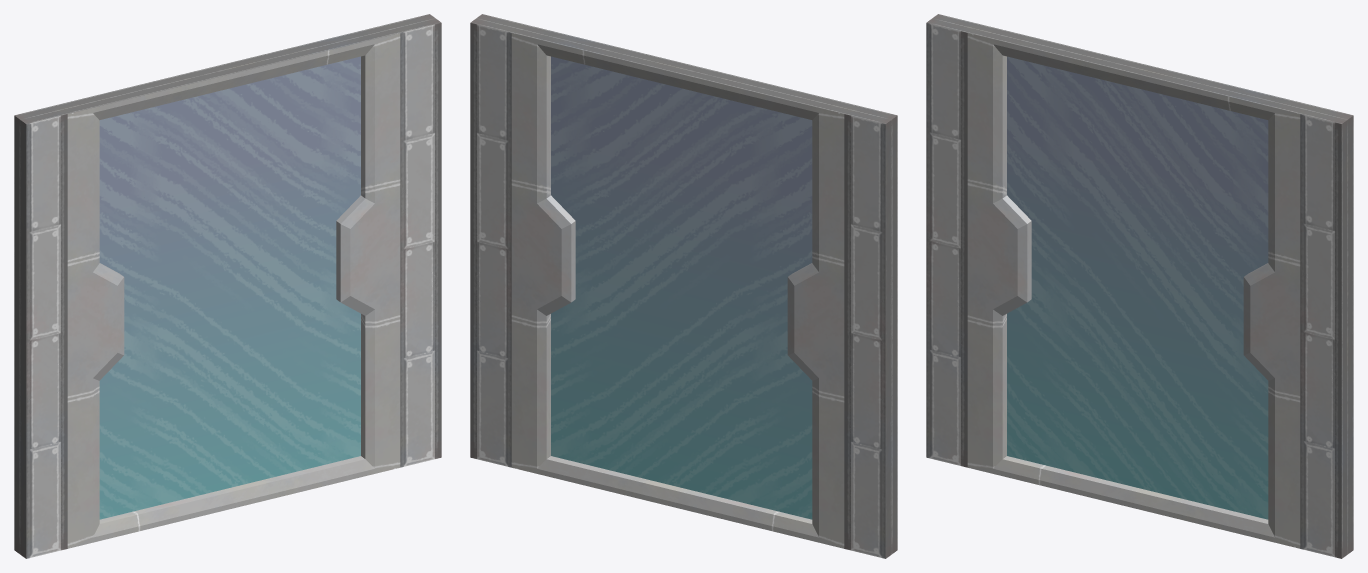
Rendered from SM_Window_Standard_A.fbx.
3 views of the same model, side by side, from view 1: azimuth 30°, elevation 25°; view 2: azimuth 150°, elevation 25°; view 3: azimuth 330°, elevation 25° (orthographic).
Parts seen in each view (by area): view 1: SM_Window_Standard_A; view 2: SM_Window_Standard_A; view 3: SM_Window_Standard_A.
Boxes of the visible parts, box(x1,y1,x2,y2) form: SM_Window_Standard_A: box(14, 14, 441, 558); SM_Window_Standard_A: box(470, 14, 897, 558); SM_Window_Standard_A: box(926, 14, 1353, 558).
Size of the model in its own units: 200 by 200 by 10.
Materials: 2 (2 with a texture image).
